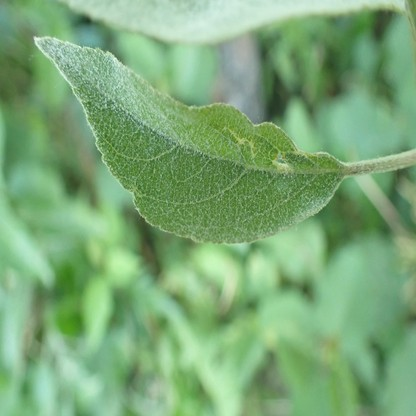powdery_mildew: (31, 34, 345, 246)
